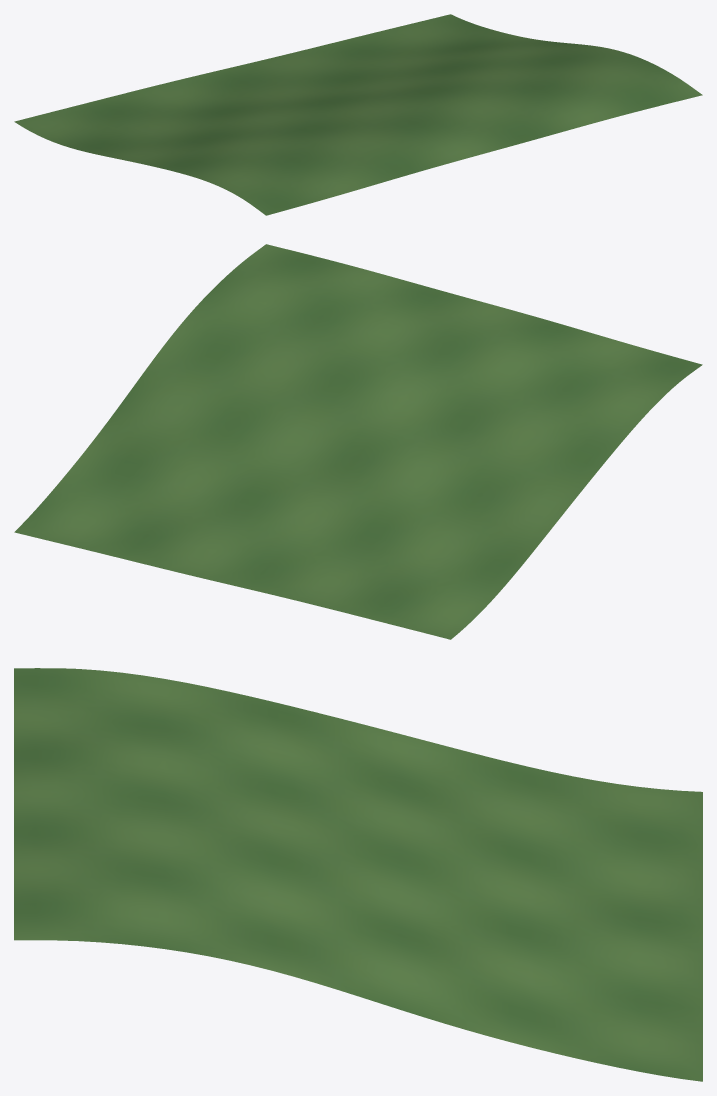
The model's file is chunk_1_12.glb.
The picture shows the model from 3 angles, top to bottom: view 1: azimuth 30°, elevation 25°; view 2: azimuth 150°, elevation 25°; view 3: azimuth 270°, elevation 25°; orthographic projection. The views are drawn at different scales.
Size of the model in its own units: 512 by 118 by 512.
